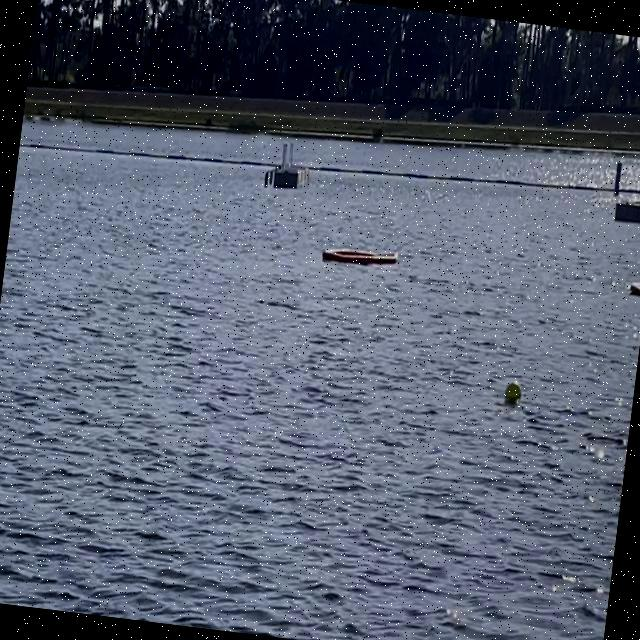buoy: (502, 374, 526, 408)
